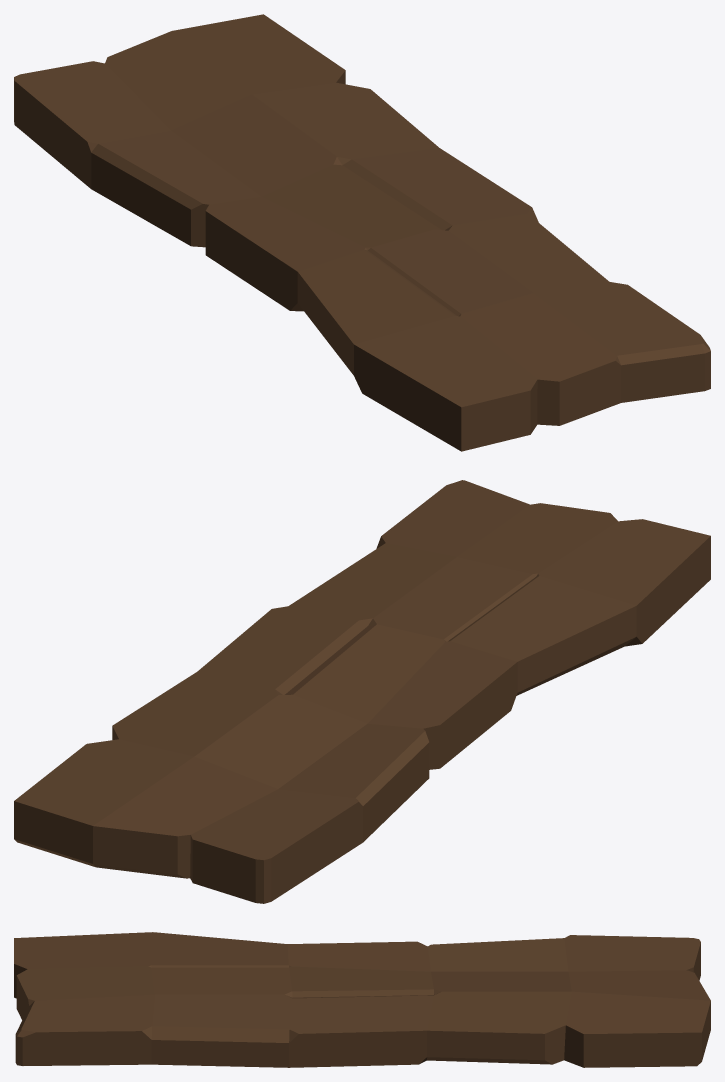
The model's file is Plank.fbx.
3 views of the same model, one above another, from view 1: azimuth 30°, elevation 25°; view 2: azimuth 150°, elevation 25°; view 3: azimuth 270°, elevation 25° (orthographic). The views are drawn at different scales.
Visible parts, largest first — view 1: Cube; view 2: Cube; view 3: Cube.
Part boxes in pixels (x1,y1,x2,y2): Cube: (14,14,710,451); Cube: (14,480,710,903); Cube: (14,932,710,1067).
Bounding box in the file's own units: 0.7018 × 0.1408 × 2.03.
